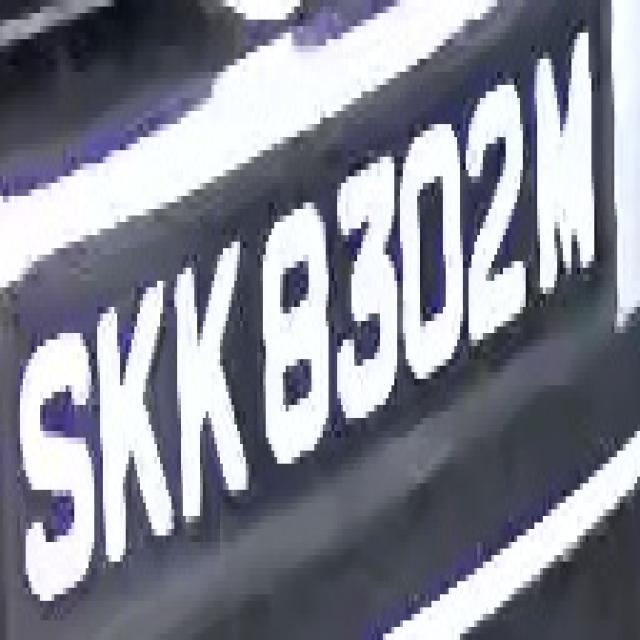0: (397, 98, 469, 392)
2: (460, 72, 531, 340)
3: (326, 150, 403, 438)
8: (260, 183, 337, 470)
K: (163, 209, 251, 542), (88, 255, 168, 568)
M: (523, 19, 606, 314)
S: (9, 313, 94, 614)
